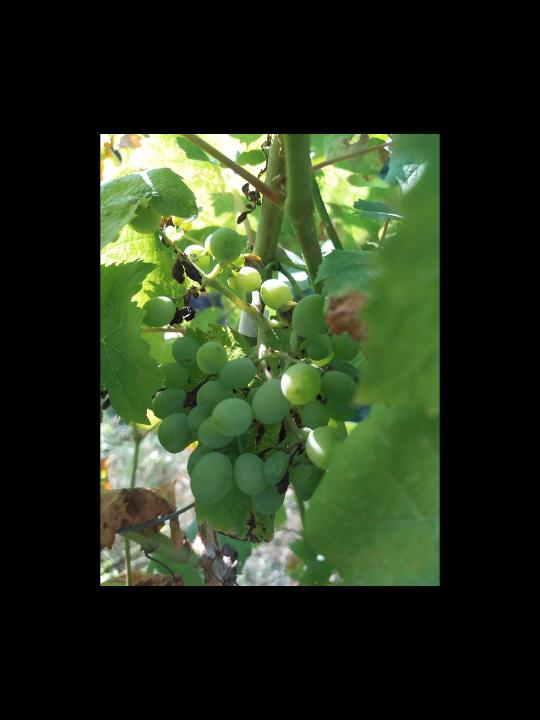grape: (142, 227, 360, 518)
